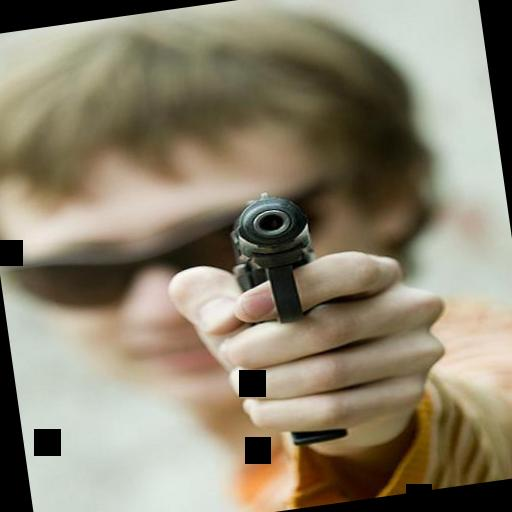Handgun: (222, 180, 362, 450)
